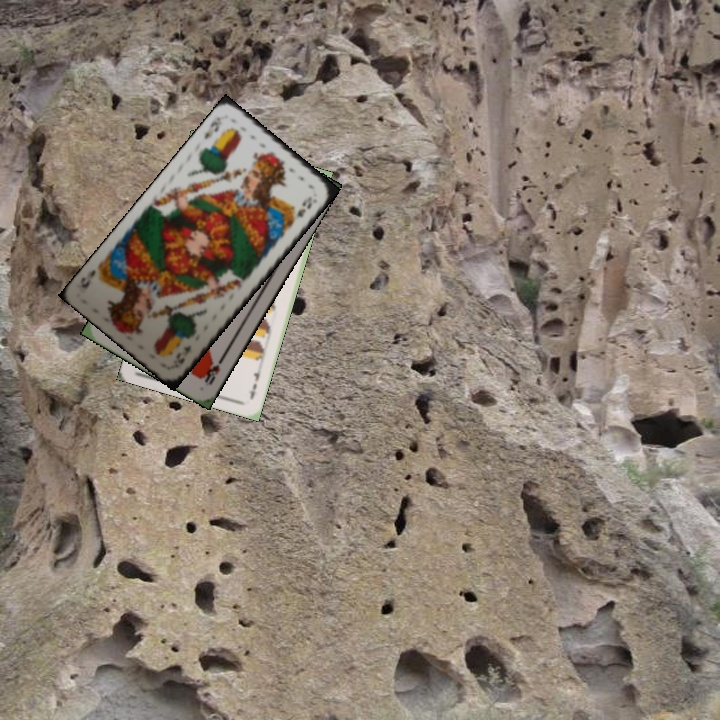E7: (246, 362, 264, 403)
EK: (200, 112, 225, 142), (170, 341, 194, 365)
HO: (199, 352, 227, 387)
